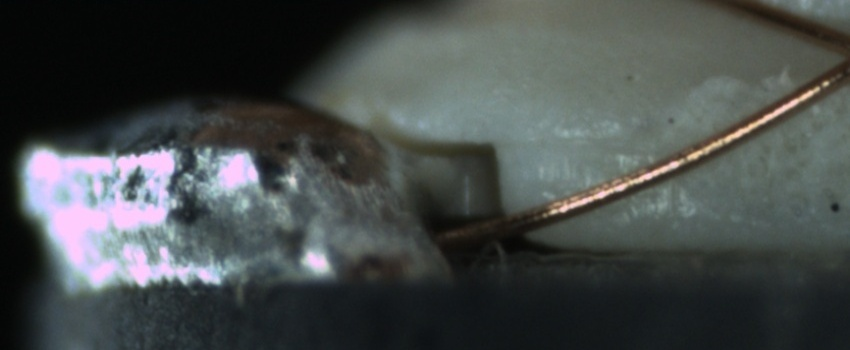CL: (807, 18, 849, 95)
DL: (519, 113, 670, 176)
